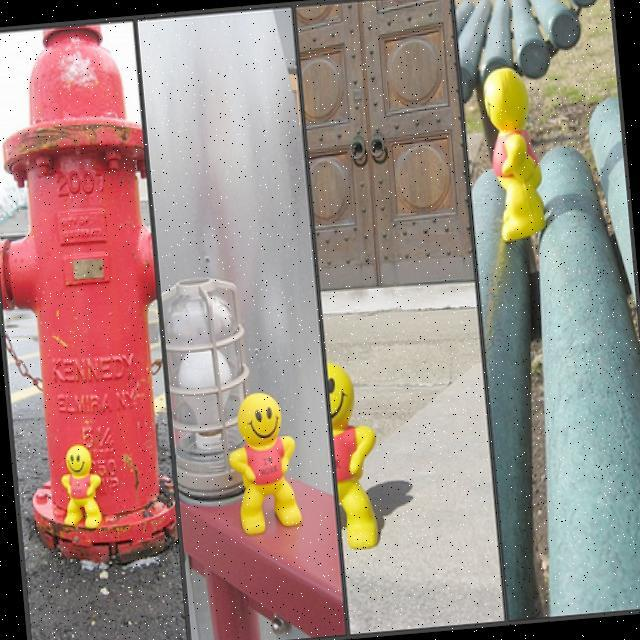fire_hydrant: (0, 18, 186, 567)
